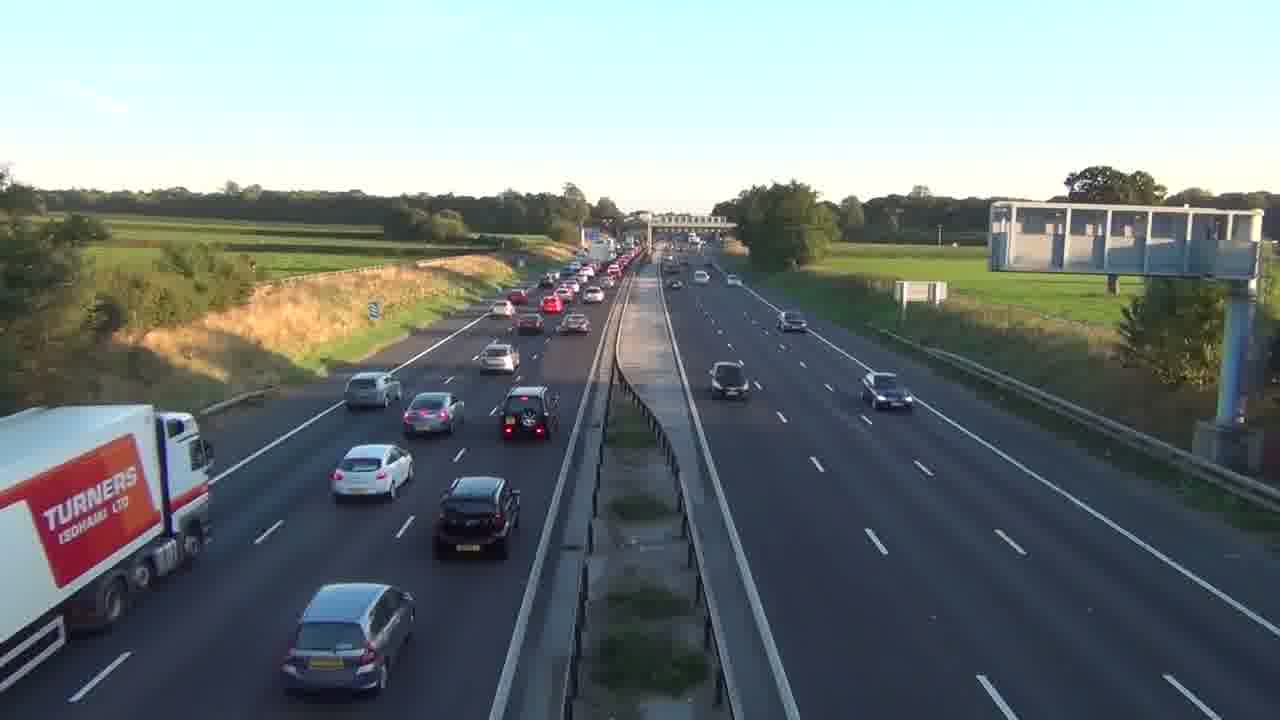car: (279, 580, 417, 698), (432, 474, 522, 558), (328, 443, 415, 502), (401, 391, 456, 437), (345, 370, 399, 411), (860, 372, 912, 412), (474, 341, 520, 375)
truck: (1, 403, 214, 647)
